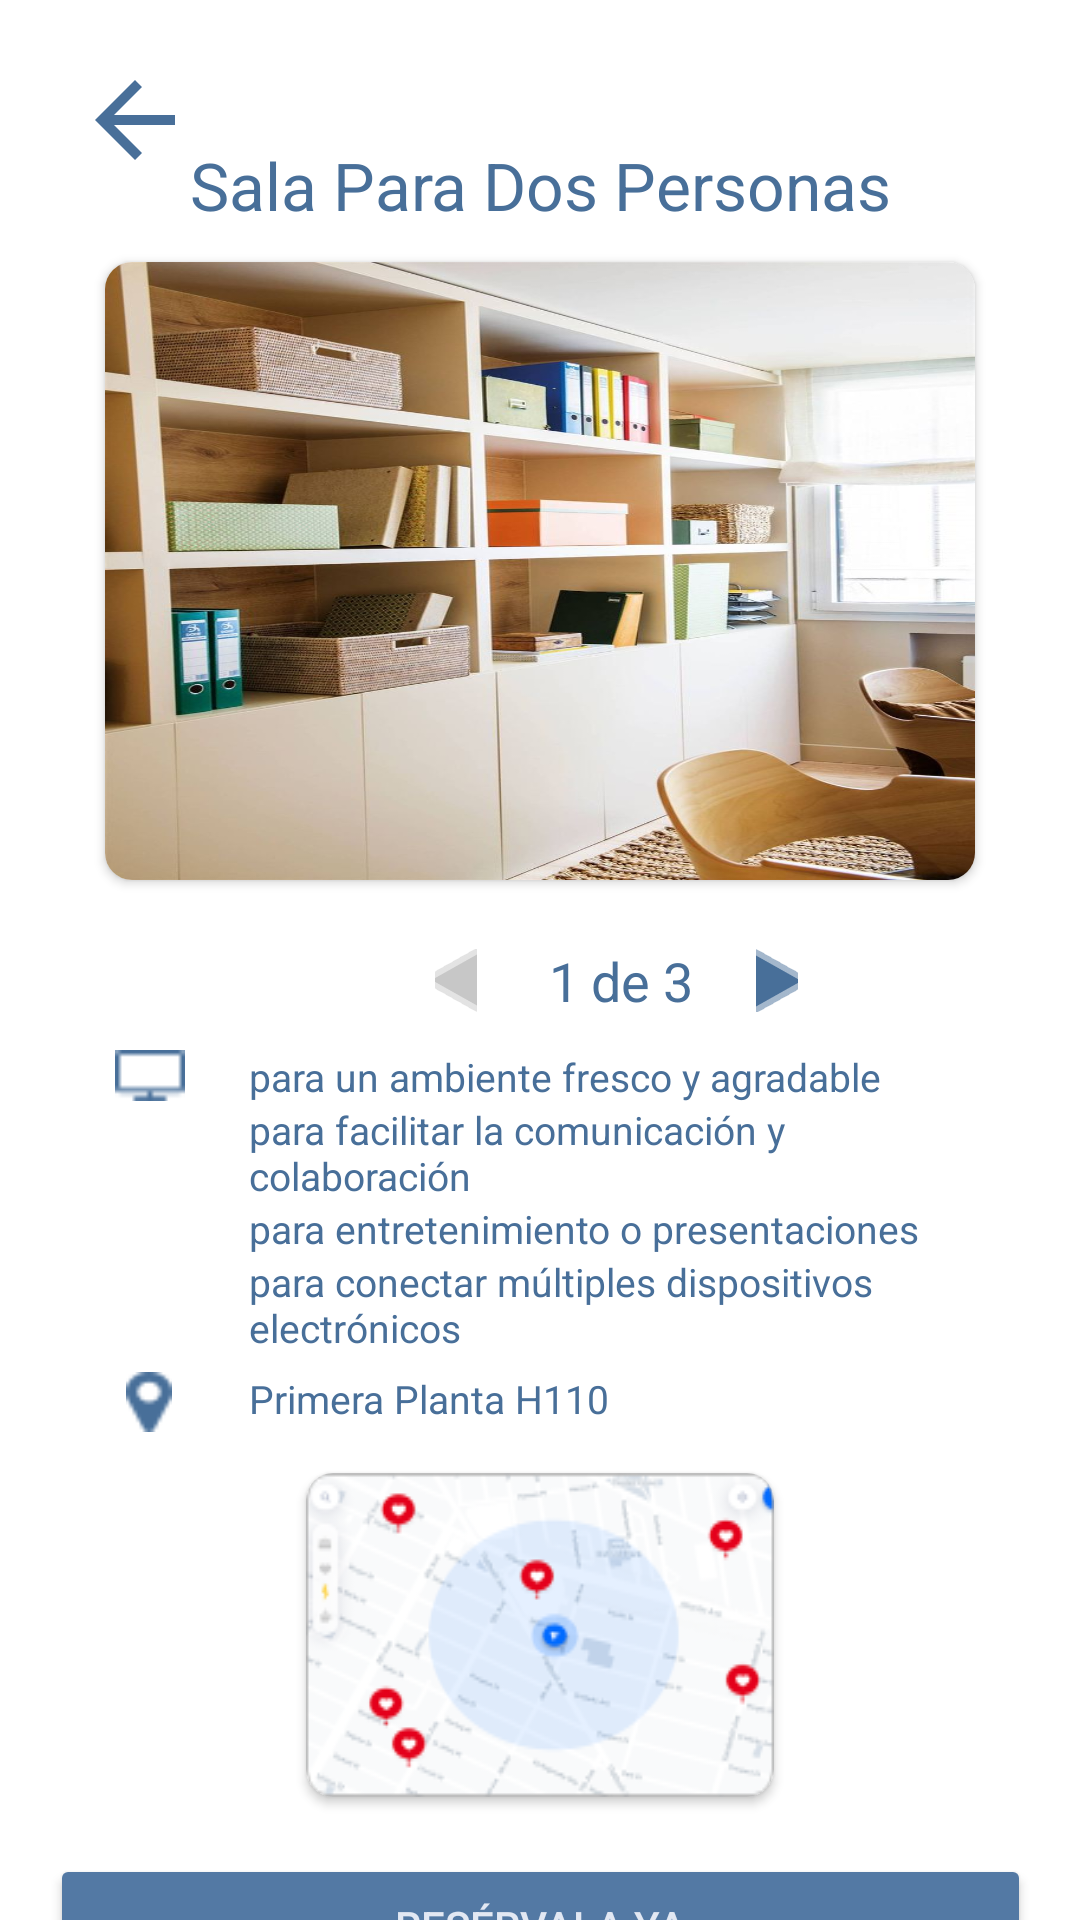

Where icons sit on this 1080px×1920px app screen, as (x1, y1, x2, y2):
computer: (115, 1050, 185, 1101)
pin: (126, 1372, 172, 1432)
